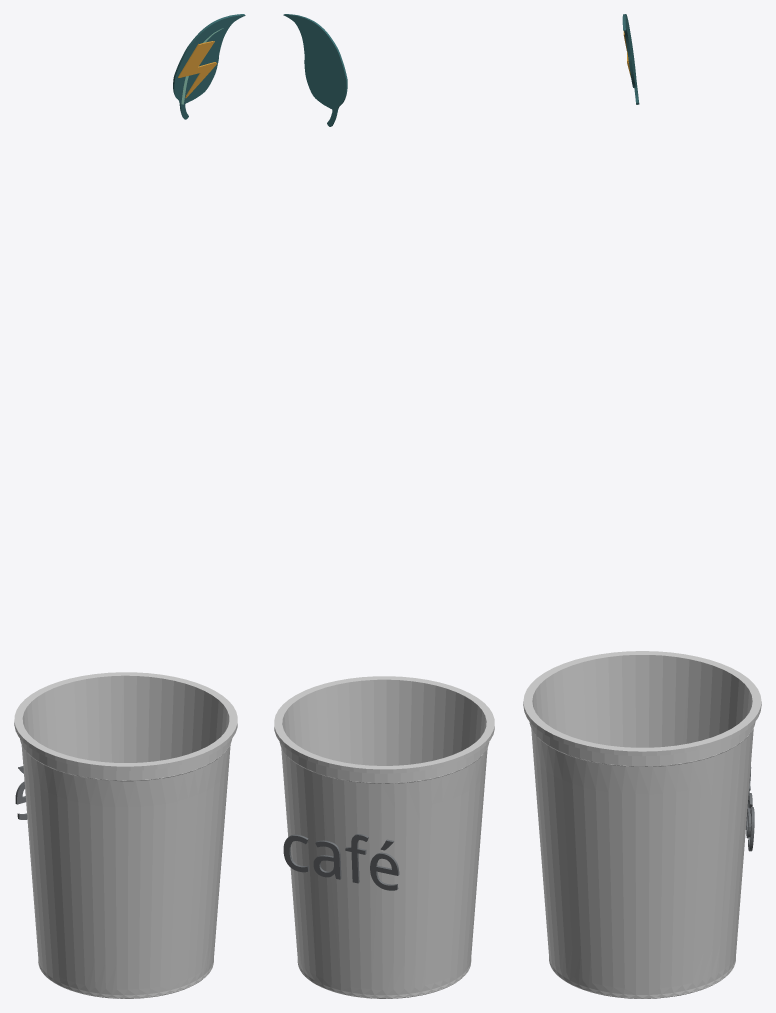
Rendered from cafe.glb.
The picture shows the model from 3 angles, left to right: view 1: azimuth 30°, elevation 25°; view 2: azimuth 150°, elevation 25°; view 3: azimuth 270°, elevation 25°; orthographic projection. The views are drawn at different scales.
Visible parts, largest first — view 1: obj_2, path182; view 2: obj_2, path182; view 3: obj_2, path182.
Part boxes in pixels (left/top/right/bottom): obj_2: left=14, top=672, right=237, bottom=998; path182: left=173, top=14, right=245, bottom=119; obj_2: left=274, top=676, right=494, bottom=998; path182: left=283, top=14, right=347, bottom=126; obj_2: left=523, top=651, right=761, bottom=998; path182: left=622, top=14, right=639, bottom=104.
Bounding box in the file's own units: 1.82 × 7.78 × 1.7.
